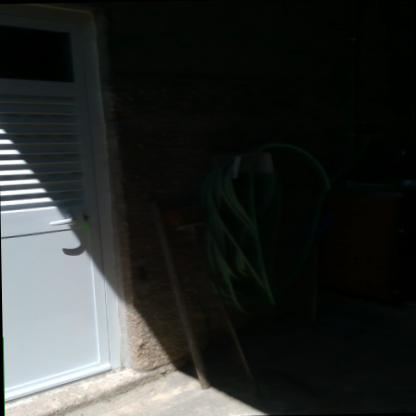closed: (0, 7, 115, 376)
